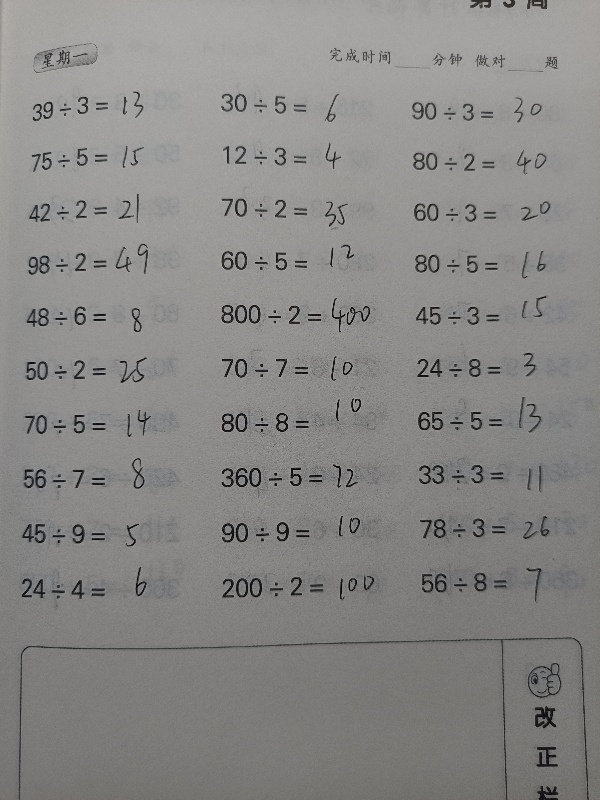equation: (212, 286, 392, 336), (213, 389, 389, 440), (19, 236, 199, 282), (213, 568, 393, 604), (13, 516, 193, 552), (212, 513, 392, 549), (12, 571, 192, 606), (412, 565, 592, 600), (412, 511, 592, 546), (15, 461, 195, 496), (213, 460, 393, 495), (410, 457, 590, 492), (17, 407, 197, 442), (17, 352, 197, 387), (214, 351, 394, 386), (17, 298, 197, 333), (213, 138, 393, 173), (212, 86, 392, 121), (409, 404, 589, 438), (409, 351, 589, 385), (407, 299, 587, 333), (406, 247, 586, 281), (213, 244, 393, 278), (405, 196, 585, 230), (213, 191, 393, 225), (22, 90, 202, 124), (404, 145, 584, 178), (402, 95, 582, 128), (22, 193, 168, 229), (22, 144, 168, 174)
